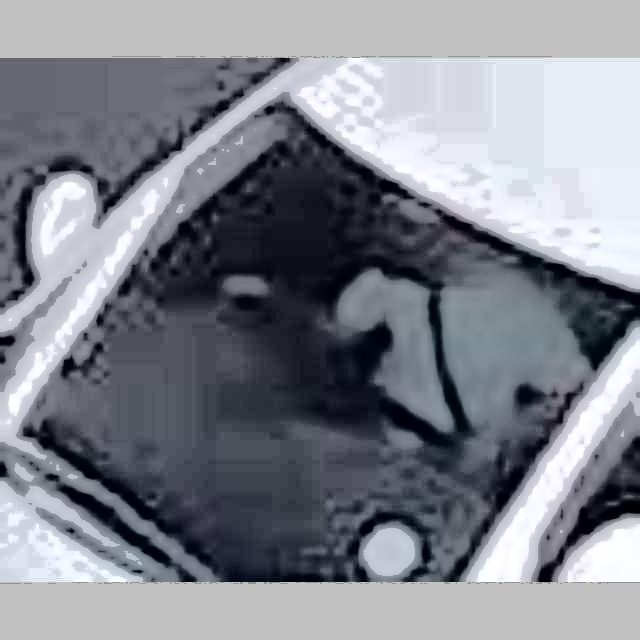pakai: (306, 194, 558, 446)
